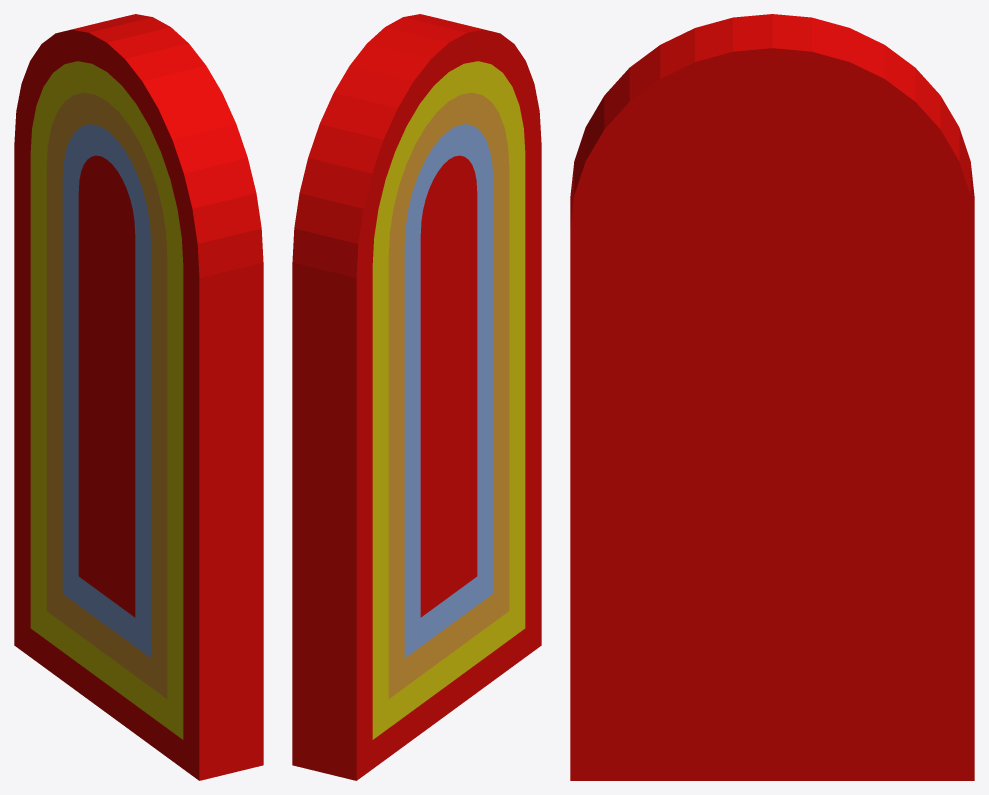
The model's file is GamechangerPodiumNoSign.fbx.
3 renders of one model, left to right at view 1: azimuth 30°, elevation 25°; view 2: azimuth 150°, elevation 25°; view 3: azimuth 270°, elevation 25°, orthographic. The views are drawn at different scales.
Visible parts, largest first — view 1: Podium.005; view 2: Podium.005; view 3: Podium.005.
Part boxes in pixels (x1,y1,x2,y2): Podium.005: (14, 14, 263, 780); Podium.005: (292, 14, 541, 780); Podium.005: (570, 14, 974, 780).
Size of the model in its own units: 16 by 160 by 80.
